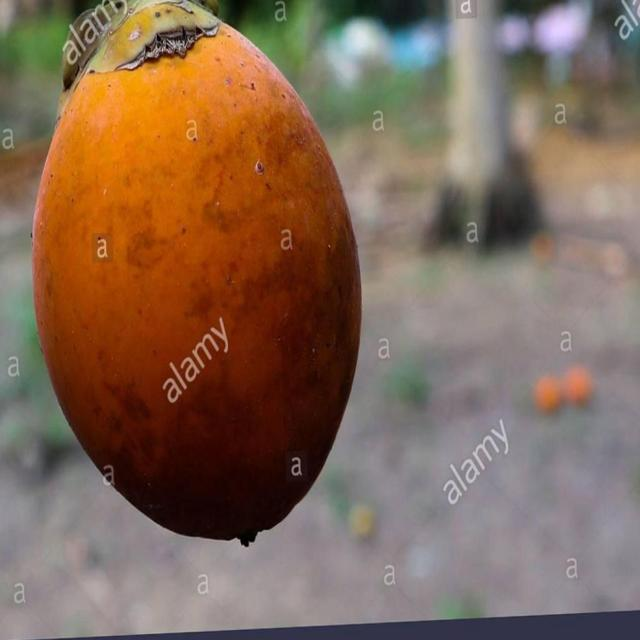good: (30, 0, 363, 546)
